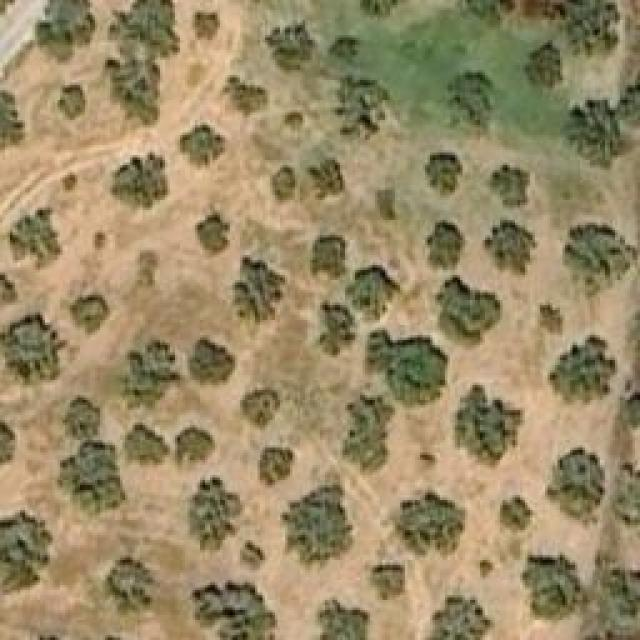Tree: (283, 485, 356, 570), (453, 385, 526, 470), (368, 330, 448, 405), (190, 580, 278, 640), (548, 335, 618, 408), (390, 493, 468, 558), (58, 443, 127, 513), (545, 448, 605, 528), (520, 550, 586, 620), (0, 313, 60, 388), (188, 477, 243, 555), (440, 278, 498, 348), (0, 510, 52, 587), (343, 395, 393, 475), (115, 0, 180, 60), (565, 100, 623, 163), (567, 225, 625, 288), (233, 255, 286, 323), (110, 153, 168, 213), (483, 220, 538, 278), (345, 262, 400, 320), (330, 80, 385, 138), (10, 208, 60, 271), (108, 557, 161, 615), (425, 595, 493, 640), (447, 72, 495, 130), (125, 343, 175, 396), (37, 0, 95, 45), (315, 597, 370, 640), (567, 0, 612, 52), (187, 337, 235, 385), (180, 120, 225, 168), (318, 303, 358, 356), (220, 75, 268, 118), (485, 165, 528, 210), (62, 394, 108, 436), (125, 423, 168, 466), (268, 23, 308, 66), (525, 43, 563, 88), (425, 153, 463, 198), (70, 295, 110, 335), (428, 223, 463, 268), (307, 160, 345, 200), (310, 235, 345, 278), (458, 0, 518, 25), (0, 90, 25, 150), (175, 425, 213, 463), (240, 387, 278, 425), (260, 447, 295, 485), (370, 562, 405, 600), (500, 495, 533, 530), (198, 215, 228, 253), (345, 0, 408, 18), (58, 85, 88, 120), (273, 168, 296, 201), (240, 540, 265, 570), (330, 38, 358, 63), (0, 425, 18, 463), (378, 188, 398, 221), (540, 305, 563, 333), (0, 275, 18, 308), (195, 13, 218, 38), (285, 112, 303, 130), (0, 0, 20, 15)
